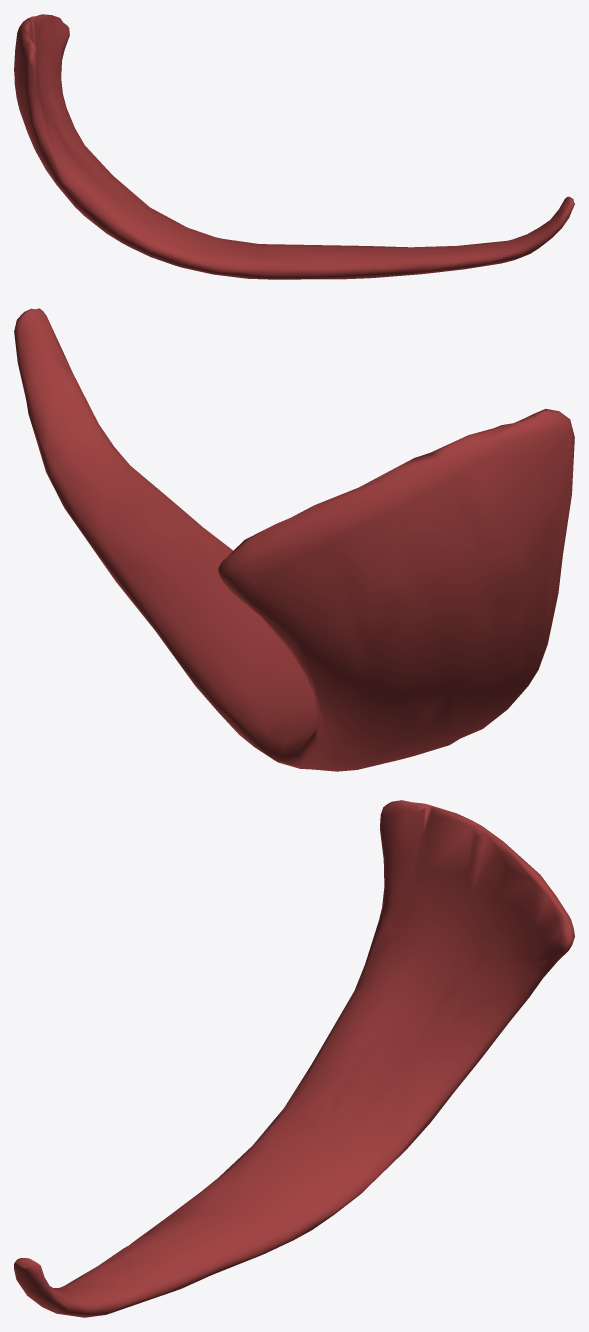
File: inferior-oblique-muscle-r.glb
3 views of the same model, one above another, from view 1: azimuth 30°, elevation 25°; view 2: azimuth 150°, elevation 25°; view 3: azimuth 270°, elevation 25° (orthographic). The views are drawn at different scales.
Visible parts, largest first — view 1: Inferior oblique muscle.r; view 2: Inferior oblique muscle.r; view 3: Inferior oblique muscle.r.
Boxes of the visible parts, box(x1,y1,x2,y2) form: Inferior oblique muscle.r: box(14, 14, 574, 279); Inferior oblique muscle.r: box(14, 308, 574, 771); Inferior oblique muscle.r: box(14, 800, 574, 1317).
Size of the model in its own units: 0.0294 by 0.0162 by 0.026.
